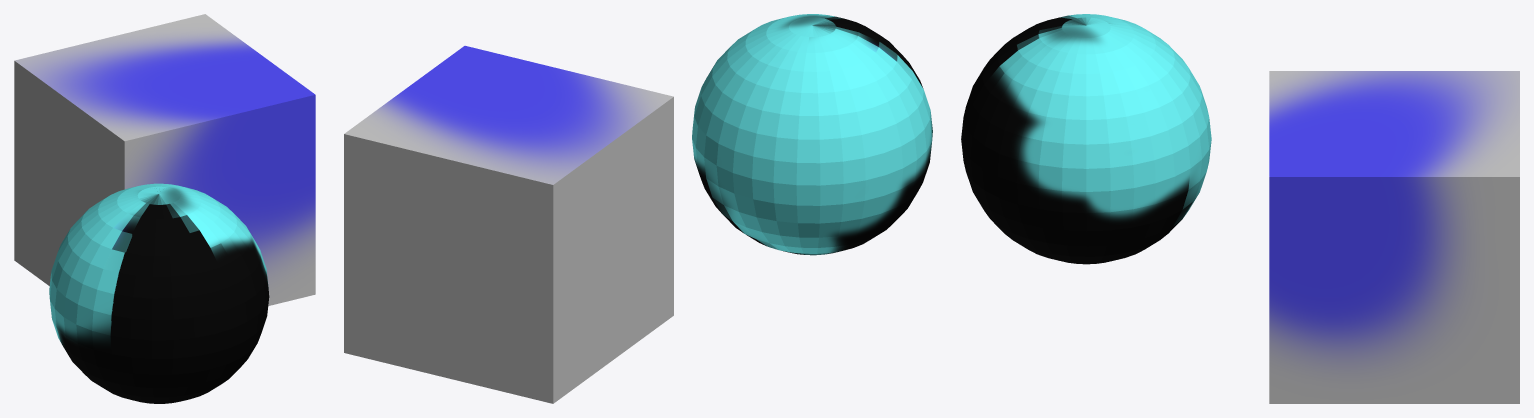
The model's file is test_with_normalmap.gltf.
The picture shows the model from 3 angles, left to right: view 1: azimuth 30°, elevation 25°; view 2: azimuth 150°, elevation 25°; view 3: azimuth 270°, elevation 25°; orthographic projection. The views are drawn at different scales.
Parts seen in each view (by area): view 1: Cube, Sphere; view 2: Cube, Sphere; view 3: Cube, Sphere.
Part boxes in pixels (x1=…): Cube: x1=14, y1=14, x2=315, y2=305; Sphere: x1=49, y1=183, x2=269, y2=403; Cube: x1=344, y1=45, x2=673, y2=403; Sphere: x1=692, y1=14, x2=932, y2=255; Cube: x1=1269, y1=71, x2=1519, y2=403; Sphere: x1=961, y1=14, x2=1211, y2=264.
Size of the model in its own units: 3.48 by 2.18 by 4.46.
Materials: 2 (2 with a texture image).
